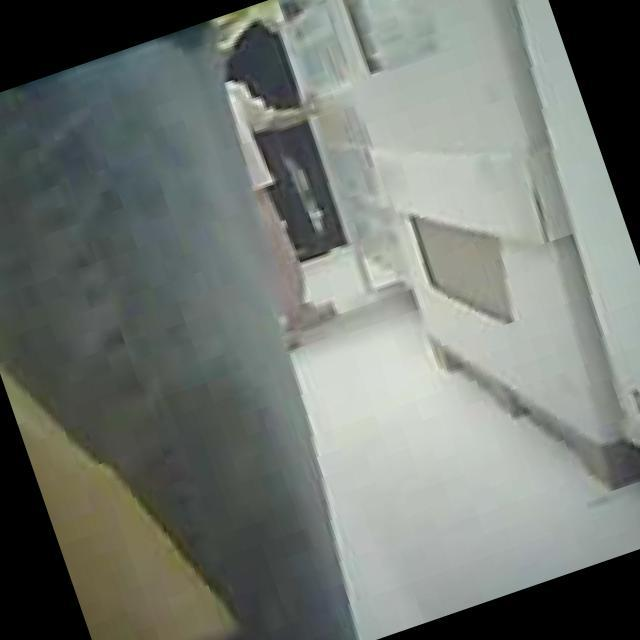person: (195, 61, 382, 352), (211, 10, 353, 268)
